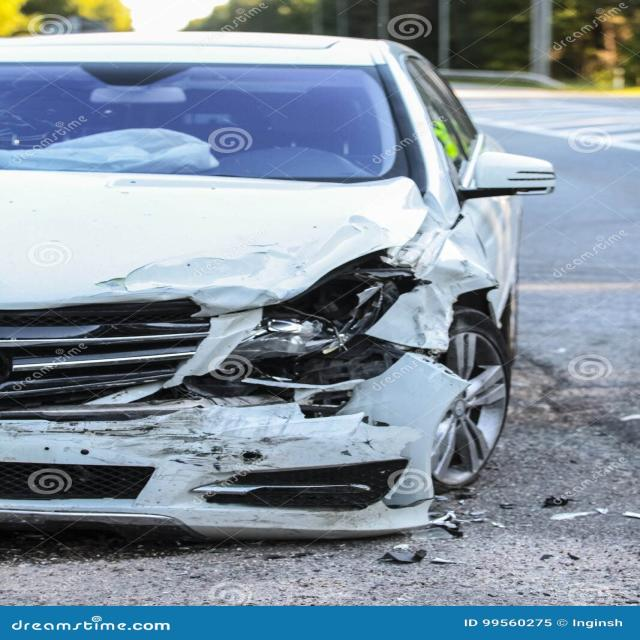Accident: (0, 25, 549, 549)
